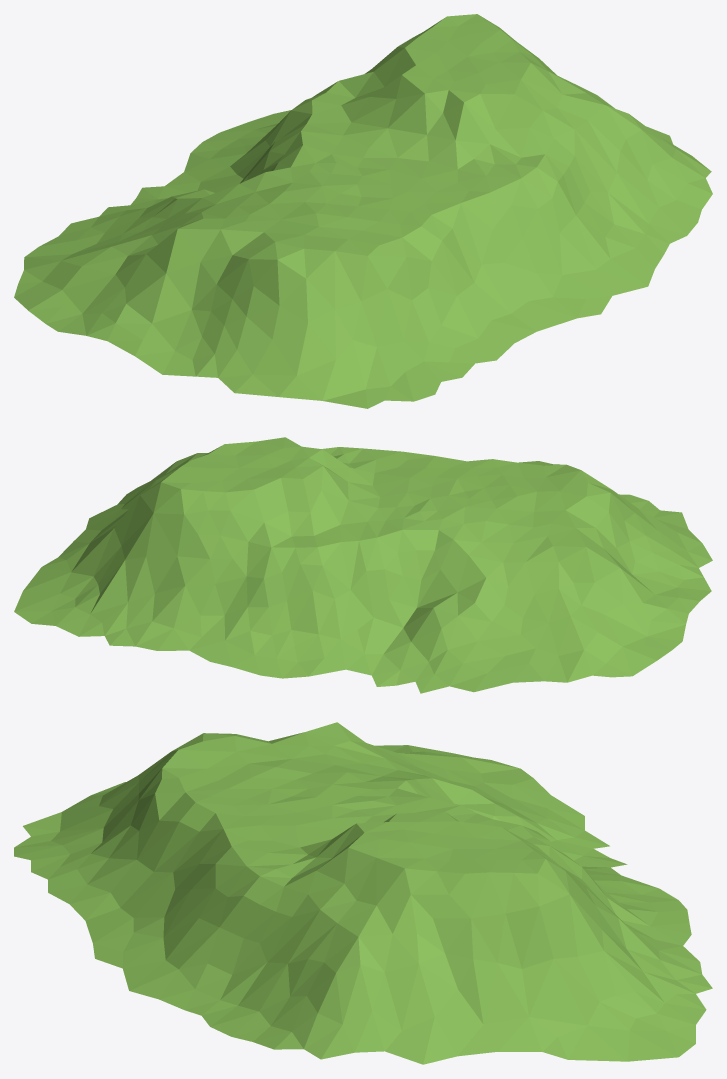
File: MT_Mountain_L_c_01_LOD.fbx
3 views of the same model, one above another, from view 1: azimuth 30°, elevation 25°; view 2: azimuth 150°, elevation 25°; view 3: azimuth 270°, elevation 25° (orthographic). The views are drawn at different scales.
Visible parts, largest first — view 1: MT_Mountain_L_c_01_LOD0; view 2: MT_Mountain_L_c_01_LOD0; view 3: MT_Mountain_L_c_01_LOD0.
Boxes of the visible parts, x1,y1,x2,y2 form: MT_Mountain_L_c_01_LOD0: [14, 14, 712, 408]; MT_Mountain_L_c_01_LOD0: [14, 437, 712, 693]; MT_Mountain_L_c_01_LOD0: [14, 722, 712, 1064].
Size of what is drawn, in the model's own units: 7616 by 1553 by 6784.
